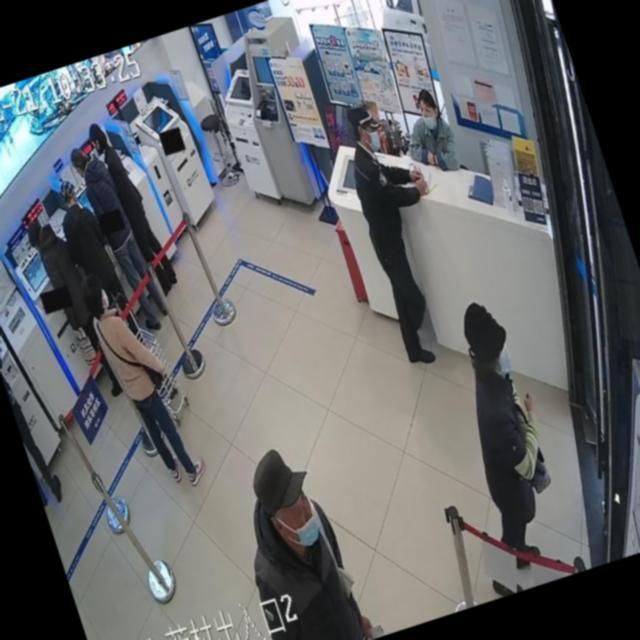person: (427, 293, 584, 576), (330, 93, 480, 370), (217, 437, 374, 640), (77, 260, 209, 500), (65, 132, 173, 340), (22, 206, 123, 406), (84, 112, 182, 306), (83, 112, 182, 303), (48, 173, 142, 344), (0, 310, 67, 508), (393, 84, 466, 183)
